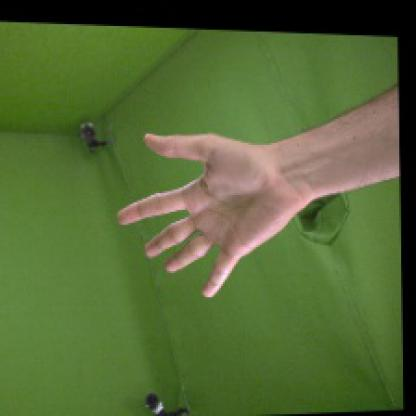Hand: (117, 134, 302, 297)
